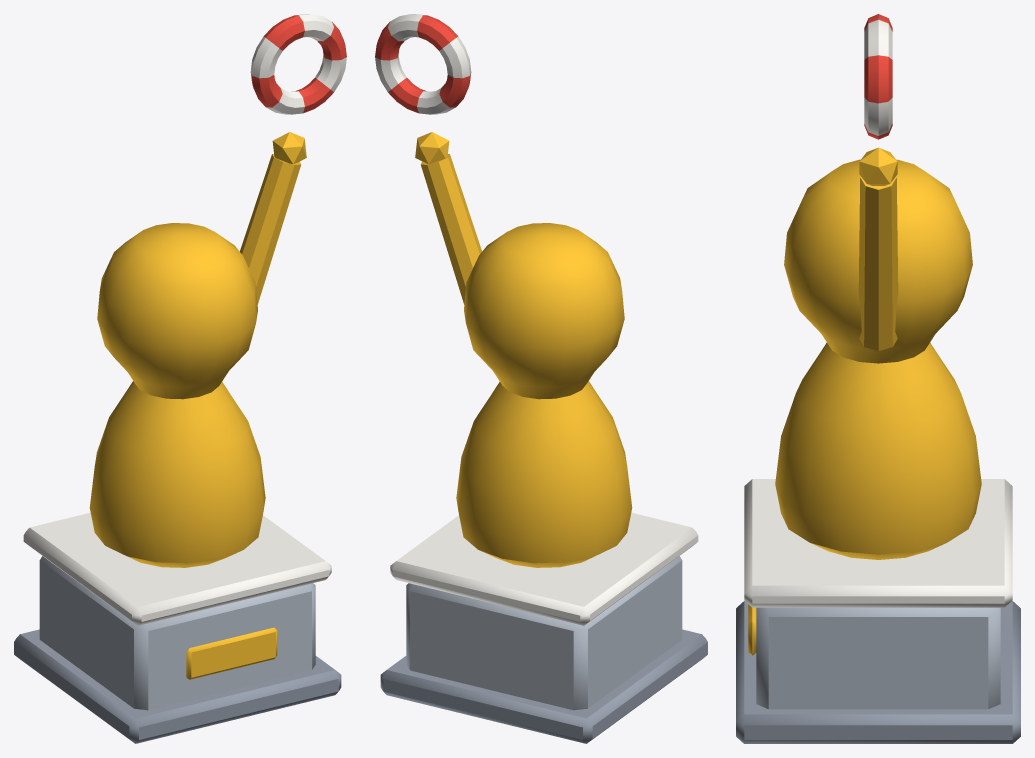
The model's file is home_statue.fbx.
3 views of the same model, side by side, from view 1: azimuth 30°, elevation 25°; view 2: azimuth 150°, elevation 25°; view 3: azimuth 270°, elevation 25° (orthographic). The views are drawn at different scales.
Visible parts, largest first — view 1: home_statue; view 2: home_statue; view 3: home_statue.
Boxes of the visible parts, x1,y1,x2,y2 form: home_statue: (14,14,346,743); home_statue: (375,14,707,743); home_statue: (736,14,1020,743).
Bounding box in the file's own units: 0.905 × 2 × 0.7.
